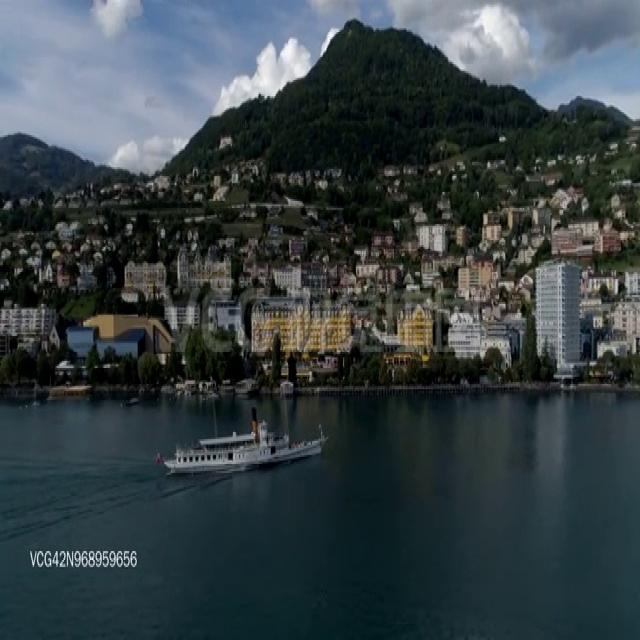passenger ship: (163, 414, 327, 479)
